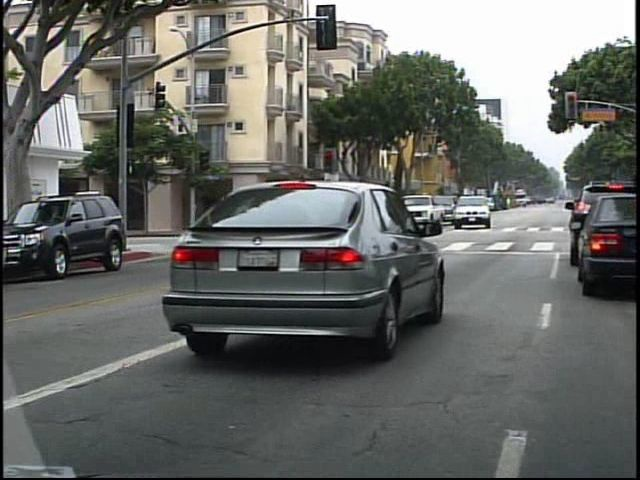person: (212, 191, 231, 238), (232, 193, 251, 235)
